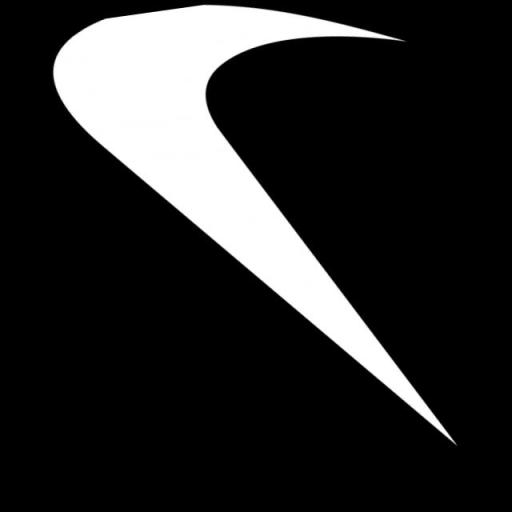Nike: (35, 0, 489, 502)
